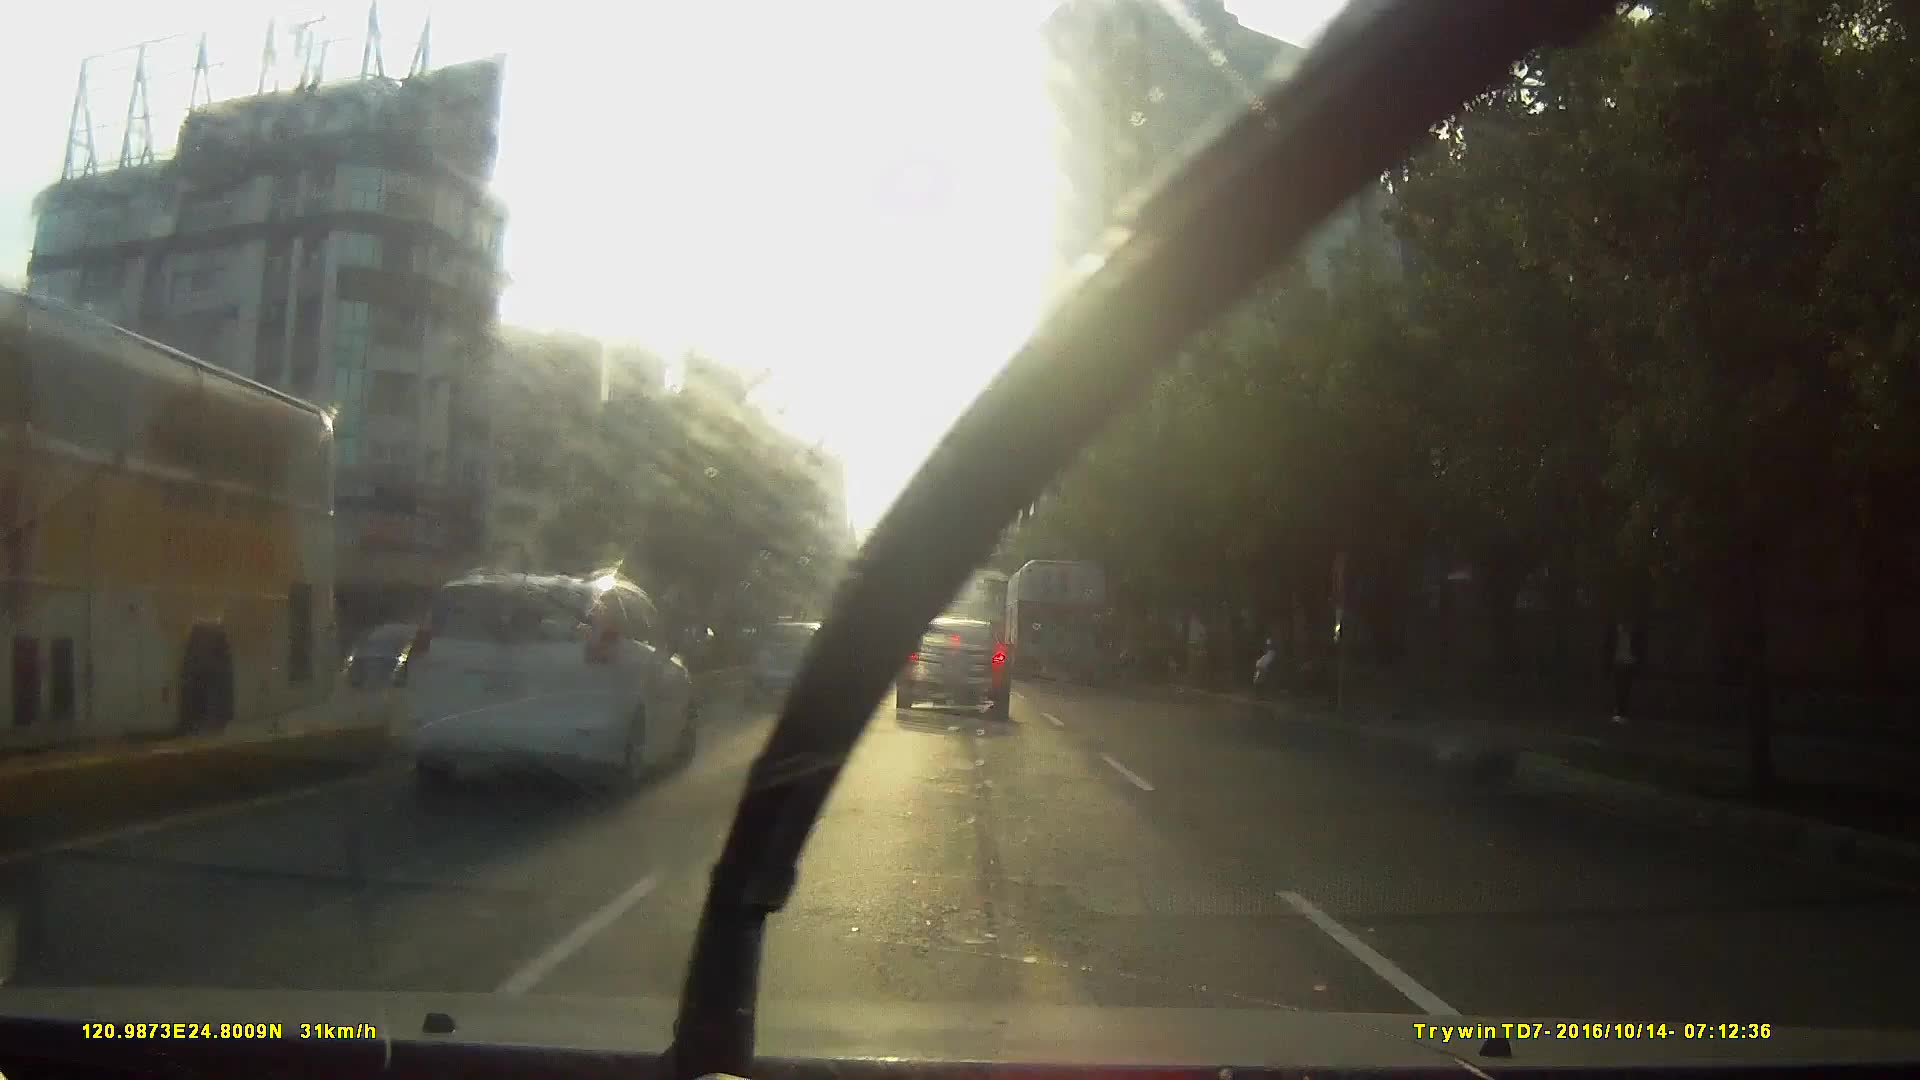pedestrian: (1581, 581, 1655, 738)
vehicle: (1, 283, 354, 792), (250, 556, 684, 868), (391, 567, 695, 792), (1006, 558, 1112, 685), (891, 614, 1008, 722), (330, 617, 476, 701), (738, 620, 847, 704), (854, 616, 903, 665)
